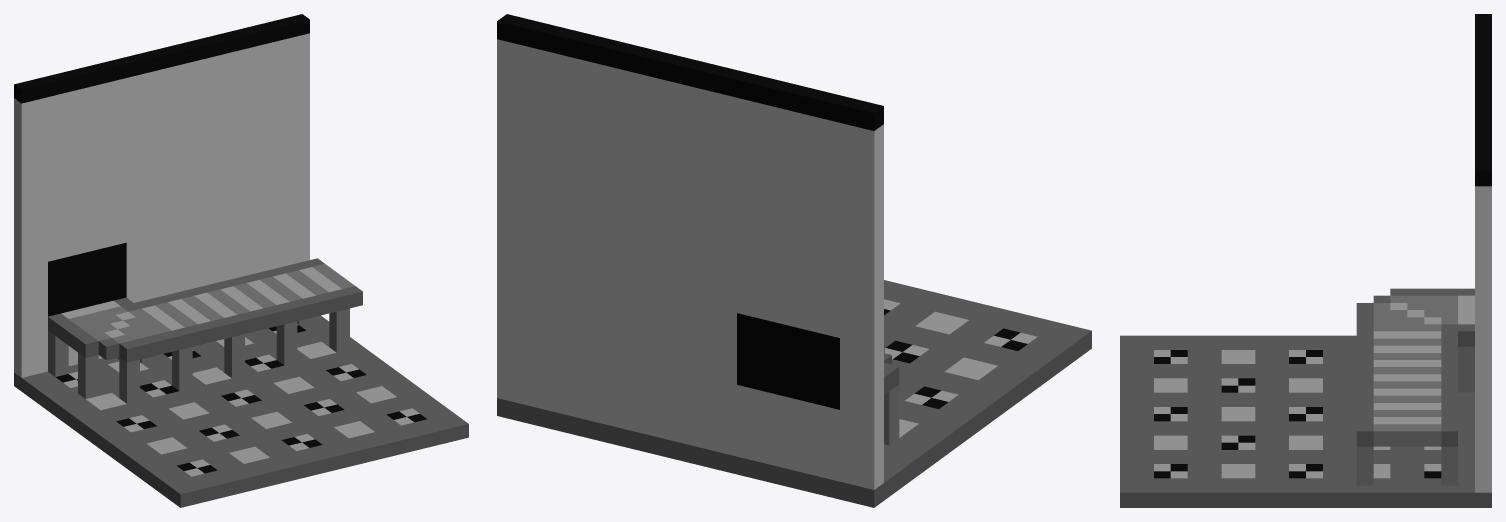
File: level_one-1.obj
3 views of the same model, side by side, from view 1: azimuth 30°, elevation 25°; view 2: azimuth 150°, elevation 25°; view 3: azimuth 270°, elevation 25° (orthographic). The views are drawn at different scales.
Parts seen in each view (by area): view 1: level_one-1; view 2: level_one-1; view 3: level_one-1.
Boxes of the visible parts, <box> form: level_one-1: <box>14,14,468,507</box>; level_one-1: <box>497,14,1091,507</box>; level_one-1: <box>1120,14,1491,507</box>.
Size of the model in its own units: 22 by 22 by 22.
Materials: 1 (1 with a texture image).
